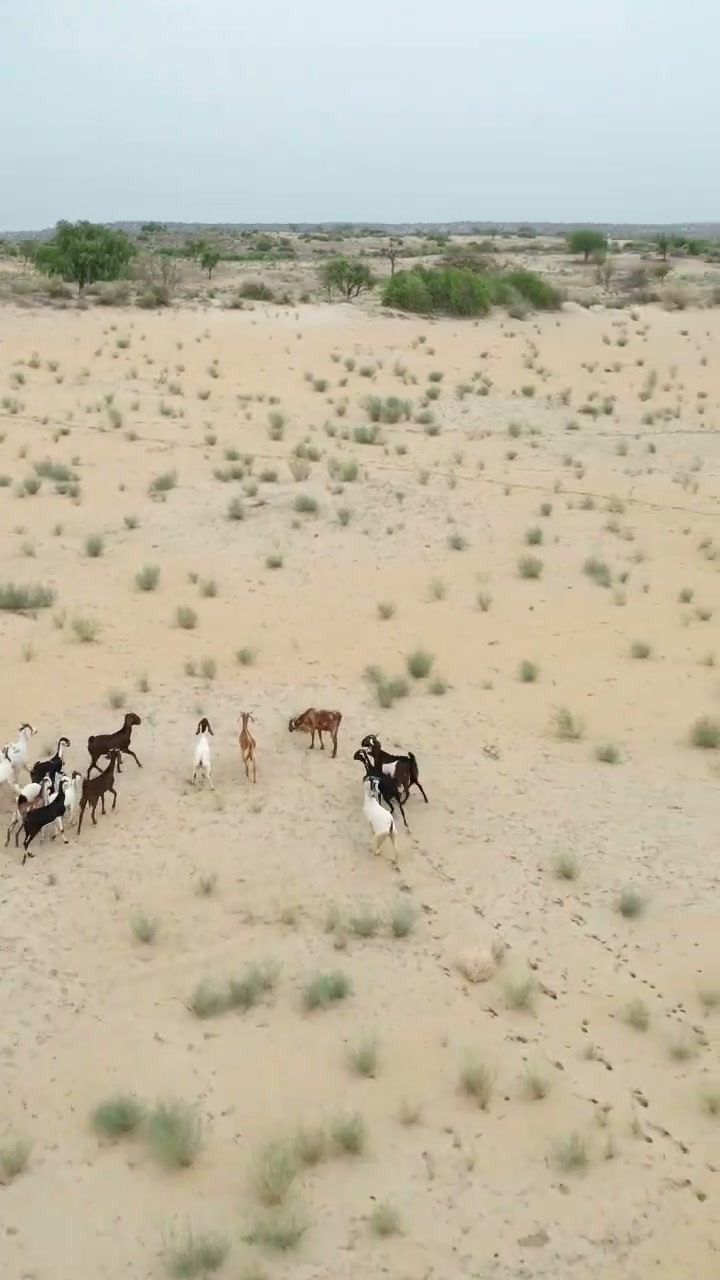animal_foot_print: (409, 817, 719, 1086), (6, 854, 142, 1244)
